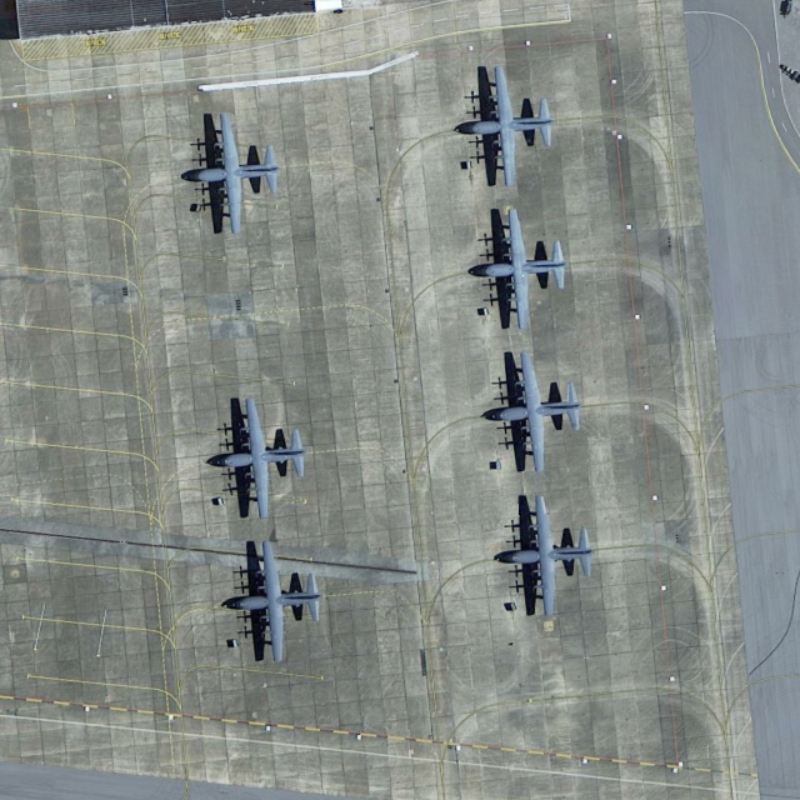A2: (228, 535, 329, 666), (501, 491, 600, 620), (476, 203, 574, 329), (192, 107, 285, 238), (490, 347, 585, 475), (217, 394, 312, 522), (463, 63, 558, 185)
